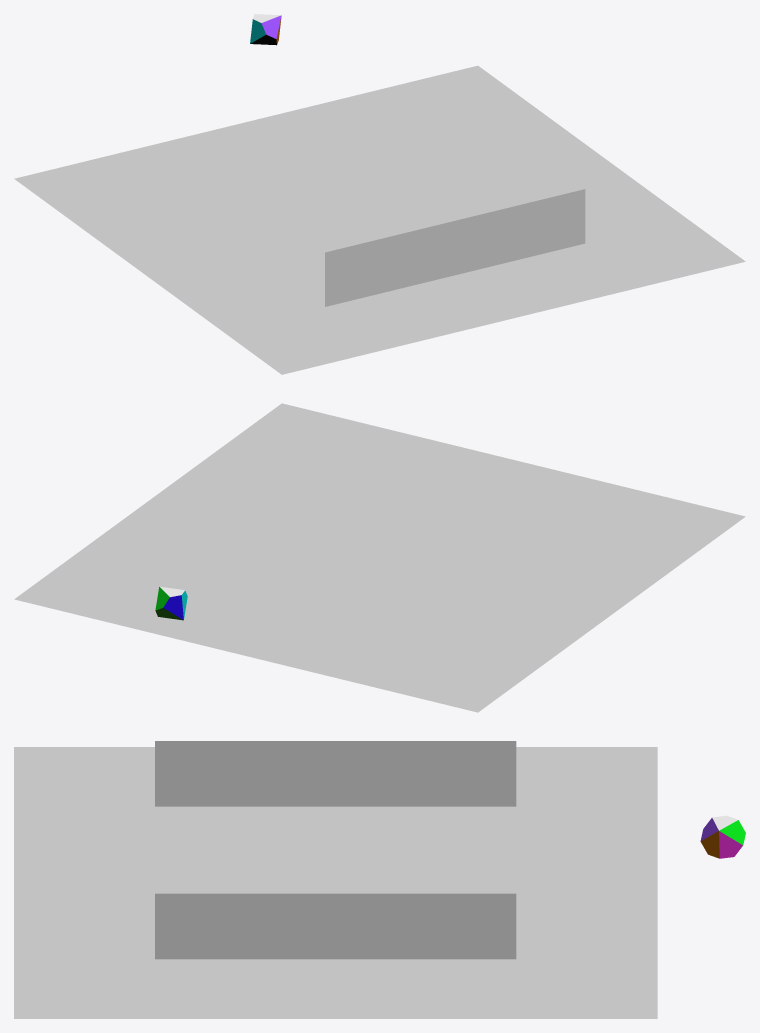
File: dice_rolling.glb
The picture shows the model from 3 angles, top to bottom: view 1: azimuth 30°, elevation 25°; view 2: azimuth 150°, elevation 25°; view 3: azimuth 270°, elevation 25°; orthographic projection. The views are drawn at different scales.
Parts seen in each view (by area): view 1: Plane, WallBack, Die Scaled D10; view 2: Plane, Die Scaled D10; view 3: Plane, WallLeft, WallRight, Die Scaled D10.
Part boxes in pixels (<box>): Plane: <box>14,65,745,374</box>; WallBack: <box>325,189,585,306</box>; Die Scaled D10: <box>250,14,281,45</box>; Plane: <box>14,403,745,712</box>; Die Scaled D10: <box>155,586,187,620</box>; Plane: <box>14,747,657,1018</box>; WallLeft: <box>155,893,516,959</box>; WallRight: <box>155,741,516,806</box>; Die Scaled D10: <box>700,815,745,858</box>.
Bounding box in the file's own units: 178 × 26.9 × 203.
Materials: 10 (10 with a texture image).
